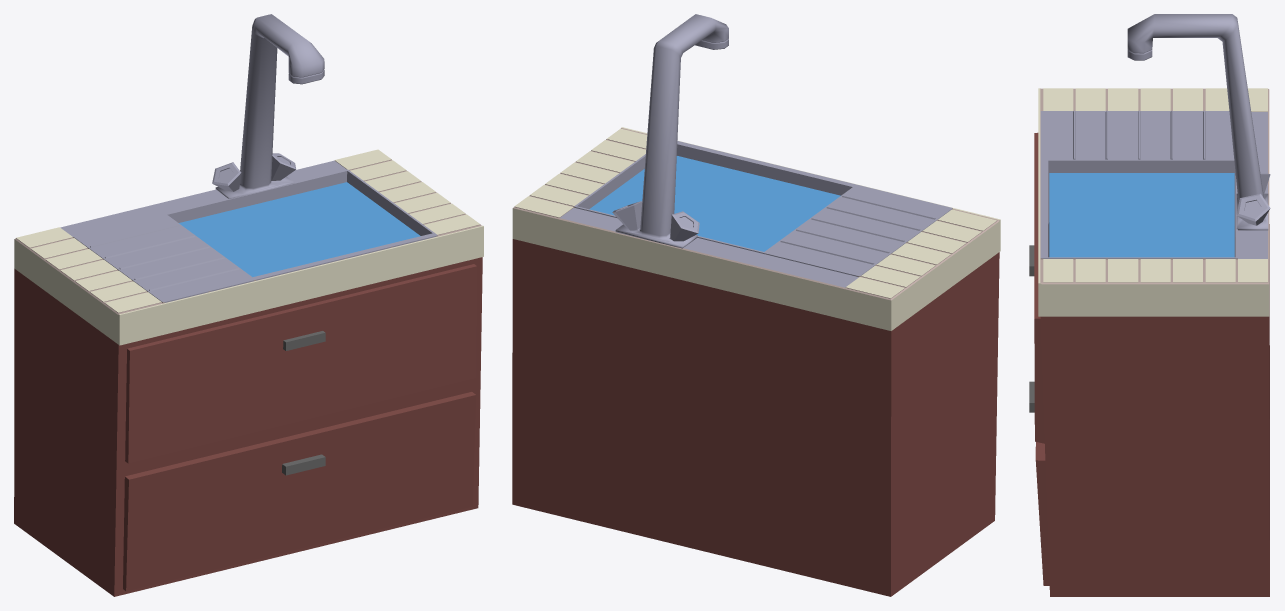
The model's file is Sink.glb.
3 renders of one model, left to right at view 1: azimuth 30°, elevation 25°; view 2: azimuth 150°, elevation 25°; view 3: azimuth 270°, elevation 25°, orthographic. The views are drawn at different scales.
Parts seen in each view (by area): view 1: Sink, Sink_Water, Sink_Faucet; view 2: Sink, Sink_Water, Sink_Faucet; view 3: Sink, Sink_Water, Sink_Faucet.
Part boxes in pixels (box(x1,y1,x2,y2)): Sink: box(14, 149, 483, 596); Sink_Water: box(179, 182, 420, 277); Sink_Faucet: box(212, 14, 324, 198); Sink: box(512, 127, 1000, 596); Sink_Water: box(589, 156, 840, 251); Sink_Faucet: box(612, 14, 728, 248); Sink: box(1029, 88, 1269, 596); Sink_Water: box(1049, 173, 1234, 257); Sink_Faucet: box(1127, 14, 1270, 230).
Size of the model in its own units: 0.8 by 0.9732 by 0.4181.
